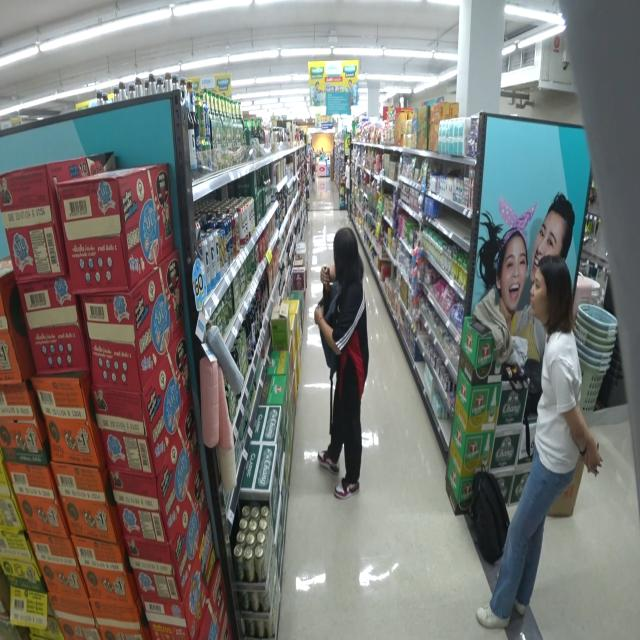shoplifting: (314, 226, 364, 495)
